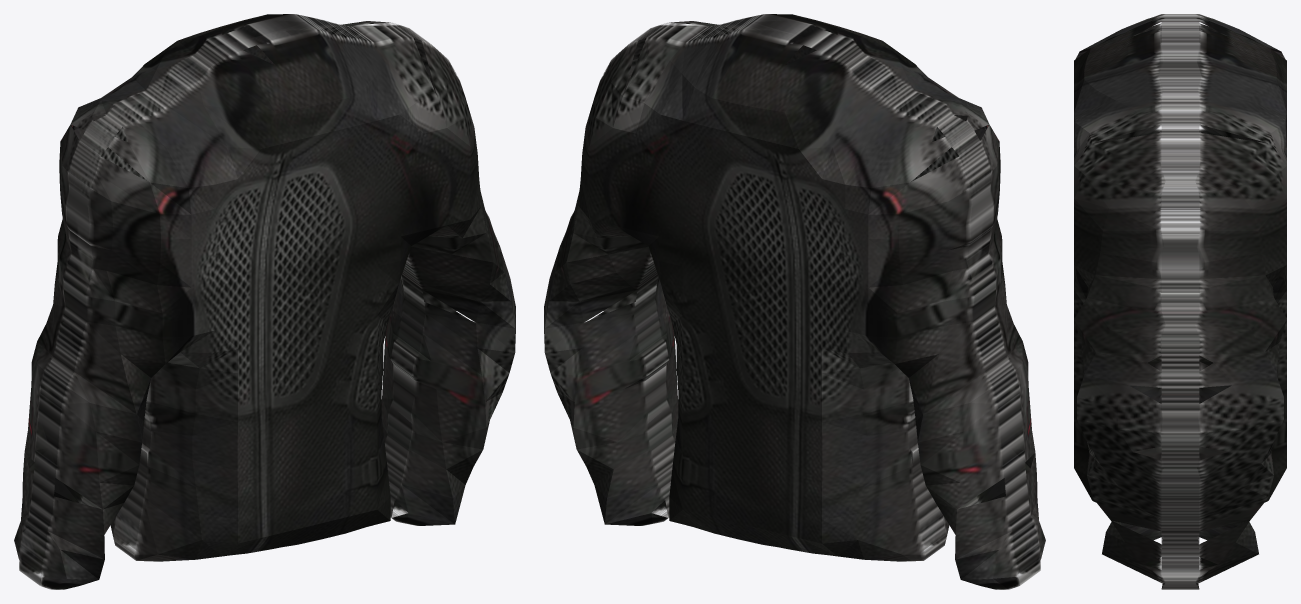
Rendered from sw-motech-apex-armored-shirt-169.glb.
3 renders of one model, left to right at view 1: azimuth 30°, elevation 25°; view 2: azimuth 150°, elevation 25°; view 3: azimuth 270°, elevation 25°, orthographic. The views are drawn at different scales.
Parts seen in each view (by area): view 1: world; view 2: world; view 3: world.
Boxes of the visible parts, x1=… form: world: x1=14, y1=14, x2=515, y2=589; world: x1=544, y1=14, x2=1045, y2=589; world: x1=1074, y1=14, x2=1286, y2=589.
Size of the model in its own units: 0.9323 by 1 by 0.4.
Materials: 1 (1 with a texture image).
